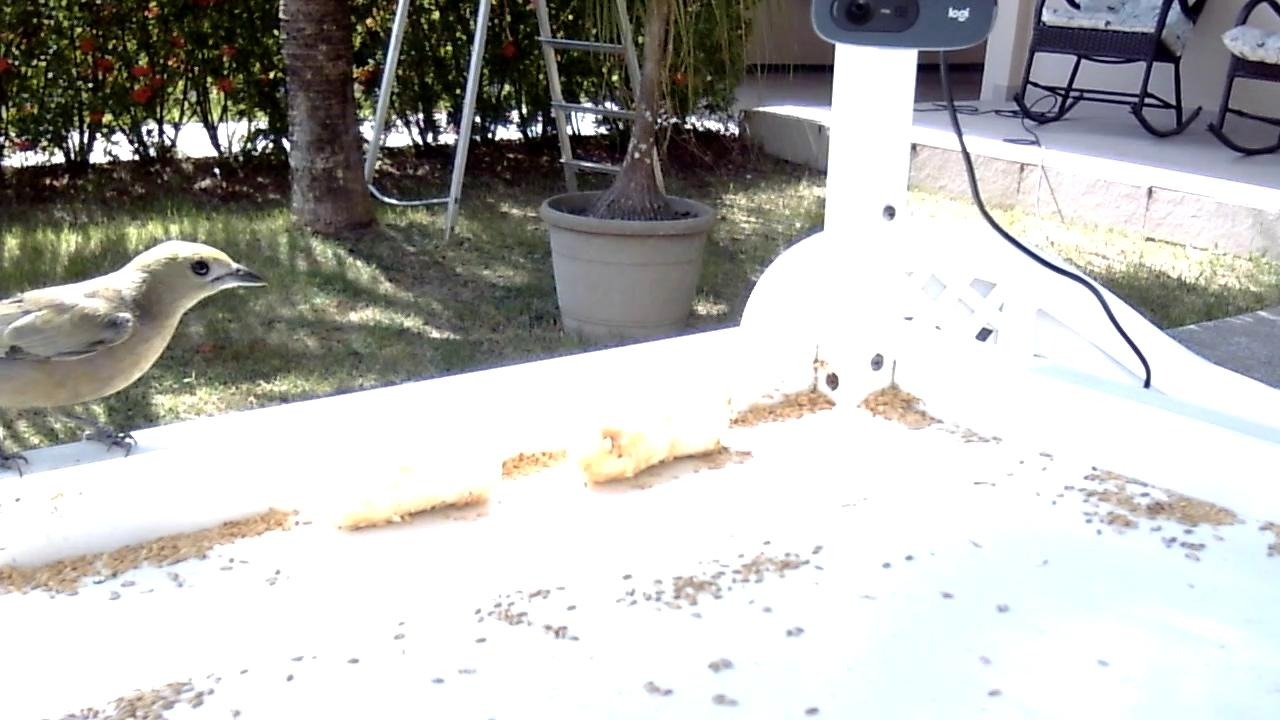sanhaco_do_coqueiro: (1, 238, 271, 482)
